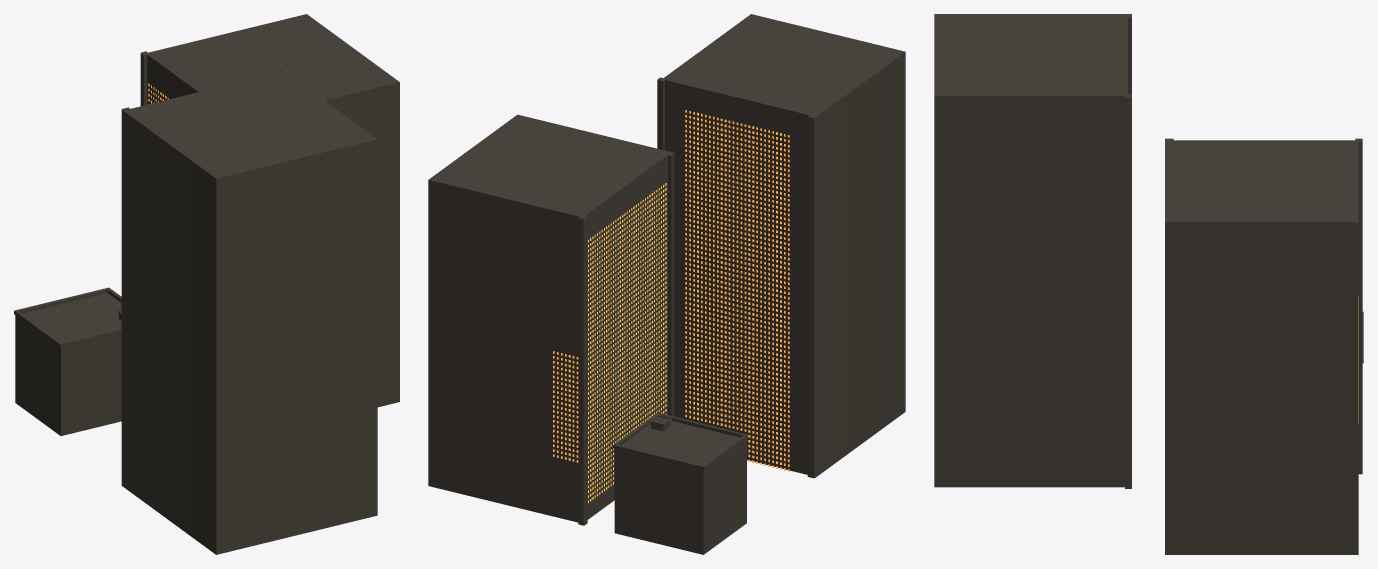
The model's file is STREET.fbx.
The picture shows the model from 3 angles, left to right: view 1: azimuth 30°, elevation 25°; view 2: azimuth 150°, elevation 25°; view 3: azimuth 270°, elevation 25°; orthographic projection. The views are drawn at different scales.
Parts seen in each view (by area): view 1: Cube.043; view 2: Cube.043, Cube.044; view 3: Cube.043.
Boxes of the visible parts, x1,y1,x2,y2 form: Cube.043: (14, 14, 399, 554); Cube.043: (428, 14, 905, 554); Cube.044: (553, 110, 789, 502); Cube.043: (934, 14, 1363, 554).
Bounding box in the file's own units: 22309 × 27340 × 27076.
